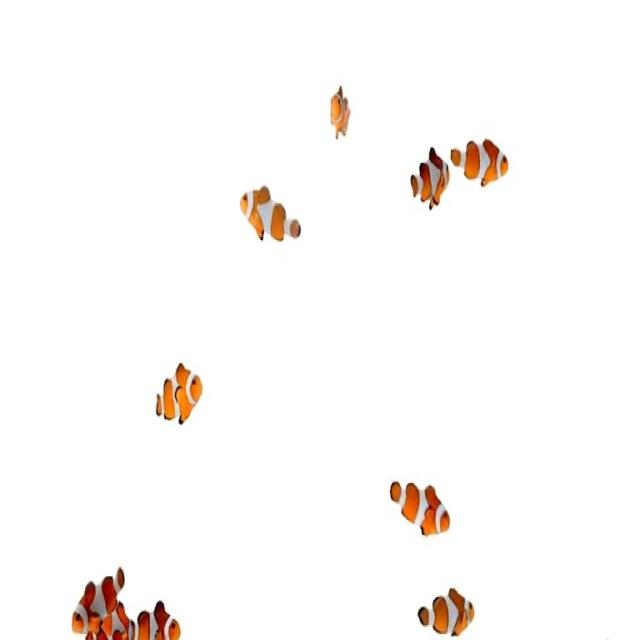fish: (448, 127, 518, 199), (237, 175, 304, 249), (388, 475, 456, 542), (66, 563, 130, 633), (155, 352, 204, 438), (414, 582, 480, 640), (405, 136, 453, 212), (322, 79, 361, 147), (139, 598, 183, 640)
